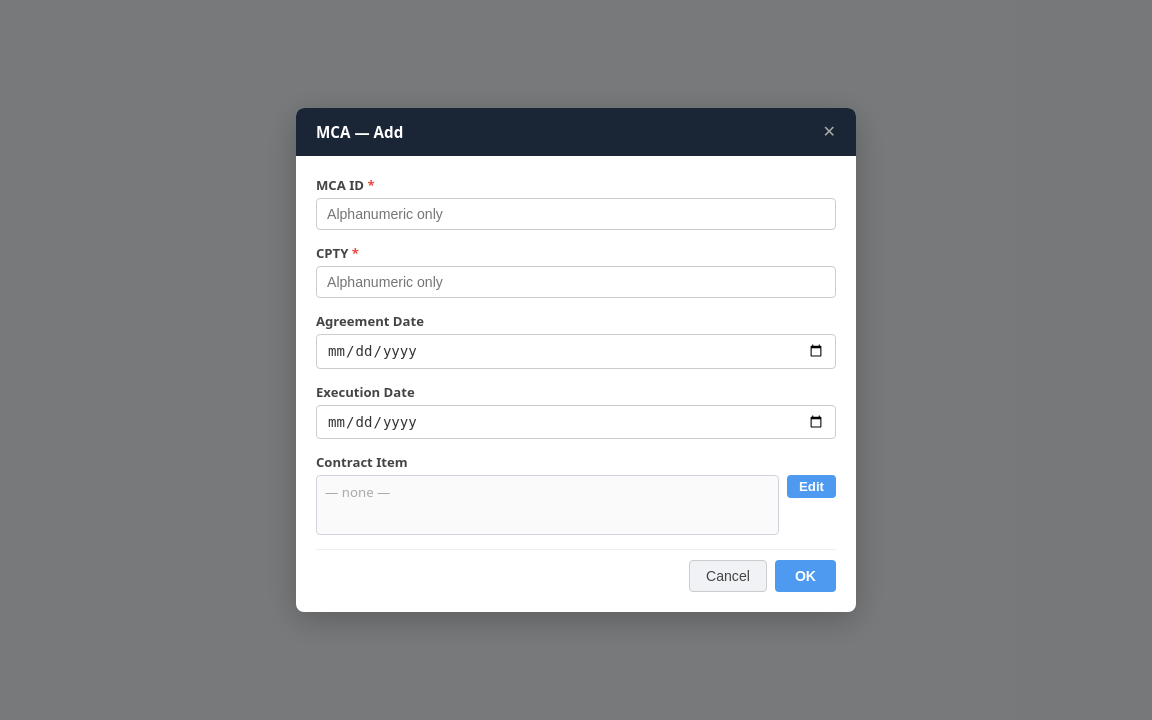
Test: MCAModal › shows required error when mca id is empty
This screenshot has width=1152, height=720.
What coordinates should you click on to do the following:
click the button "OK"
I would click on:
 (805, 576)
Its box is [775,560,836,592].
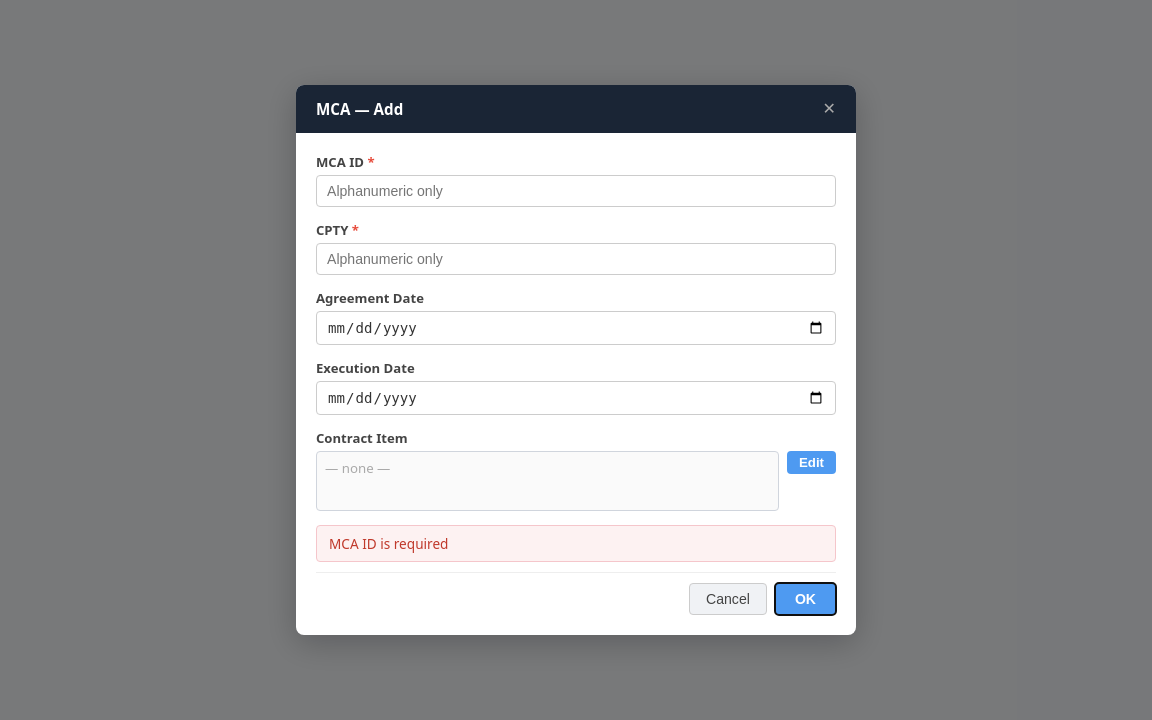
expect the text "MCA ID is required" is shown: met, box [316,525,836,562]
